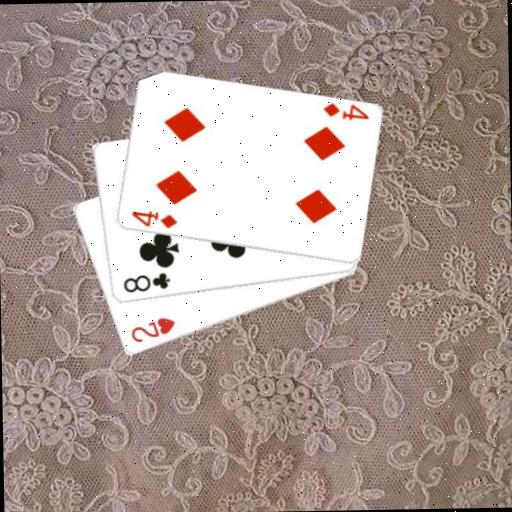2H: (128, 315, 178, 346)
4D: (128, 208, 178, 232), (320, 99, 370, 123)
8C: (120, 270, 171, 296)
